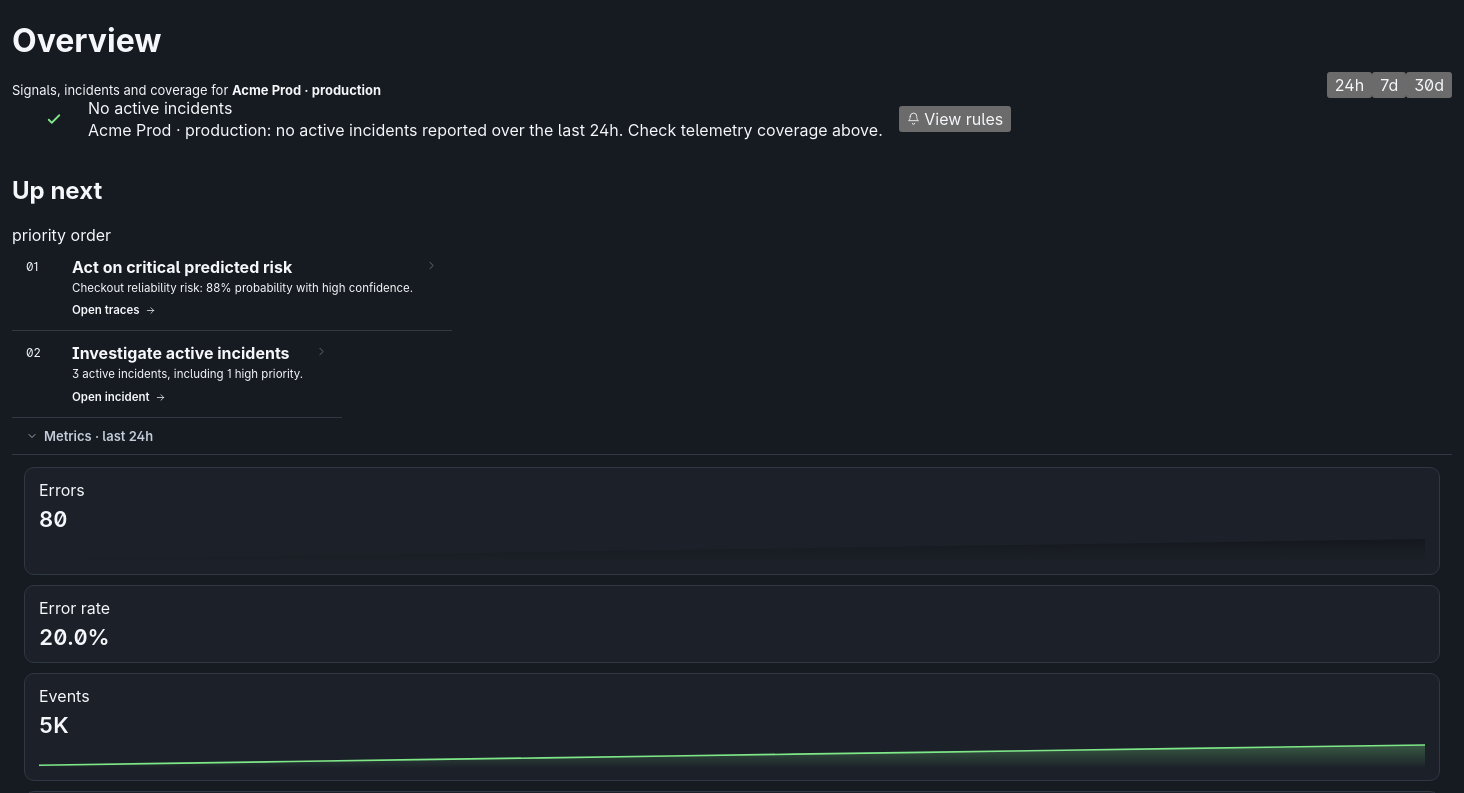
Test: OverviewScreen › metrics strip › toggles the metrics strip collapsed and expanded
Expected: the text "Errors" is shown, top-left (39, 480), bottom-right (85, 500)
Step 1. Click the button "Metrics · last 24h" → (90, 436), box top-left (26, 428), bottom-right (153, 444)
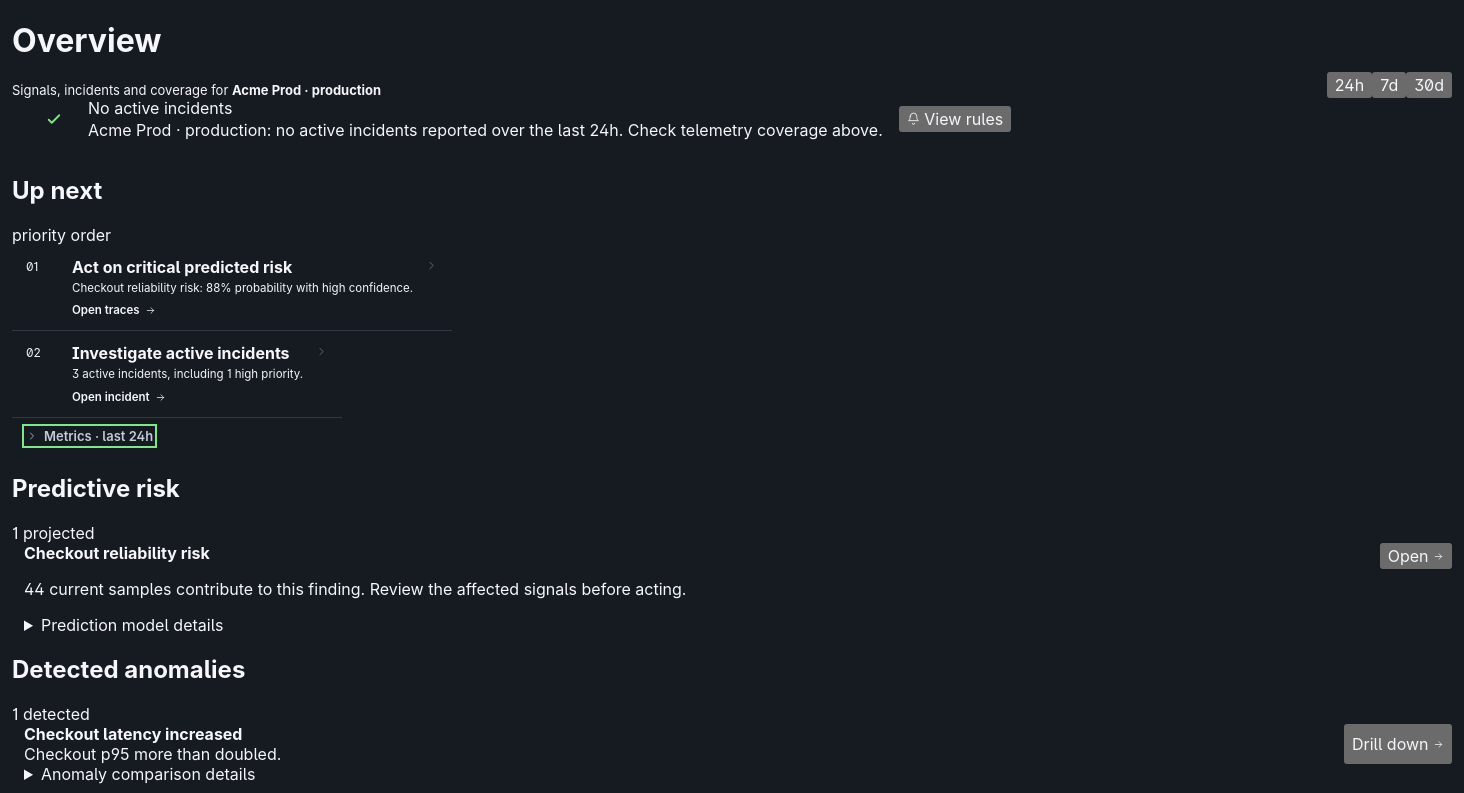
Expected: the text "Errors" is gone
Step 2. Click the button "Metrics · last 24h" → (90, 436), box top-left (26, 428), bottom-right (153, 444)
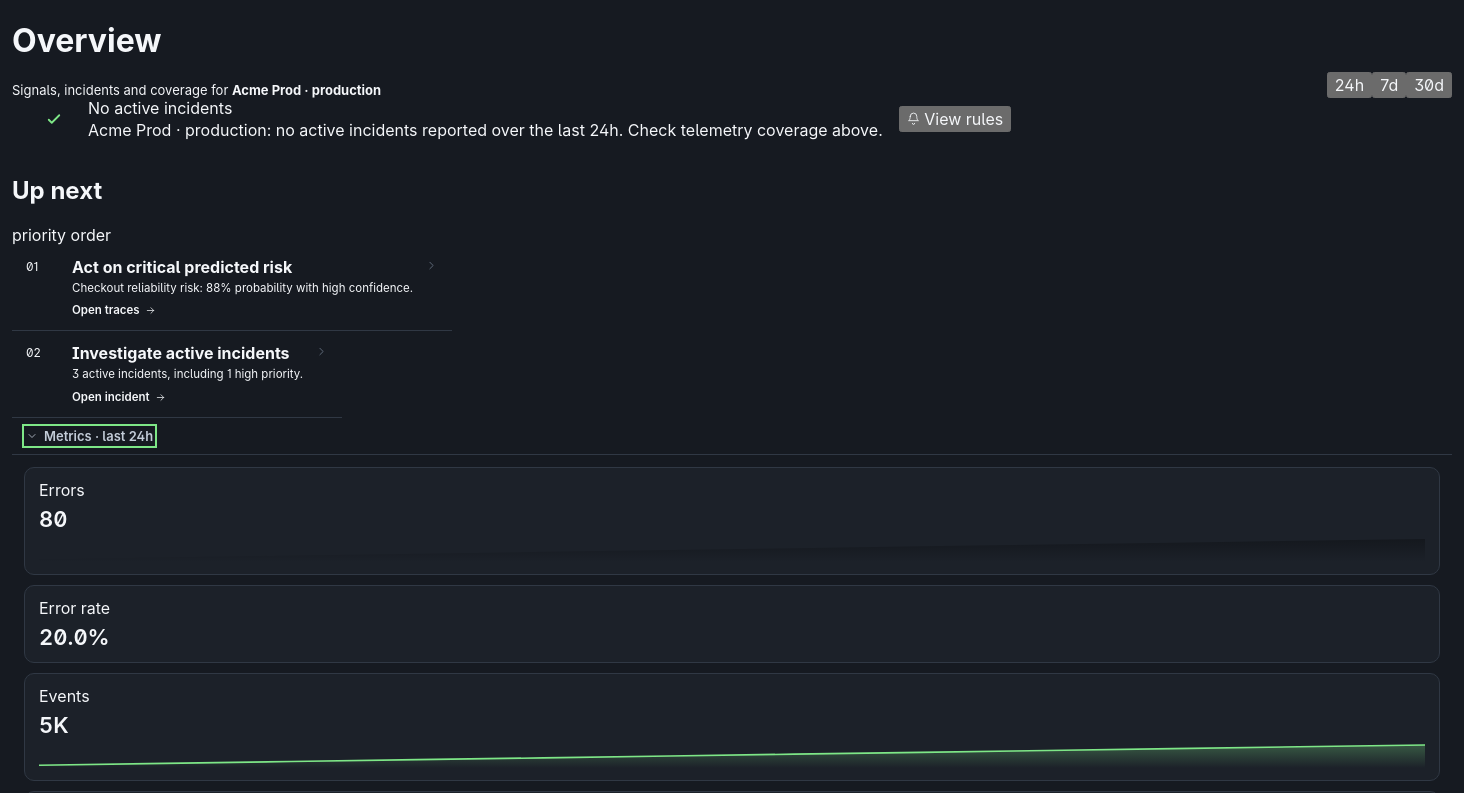
Expected: the text "Errors" is shown, top-left (39, 480), bottom-right (85, 500)
